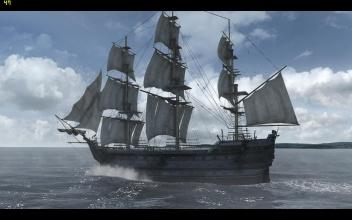fanchuan: (52, 13, 300, 178)
